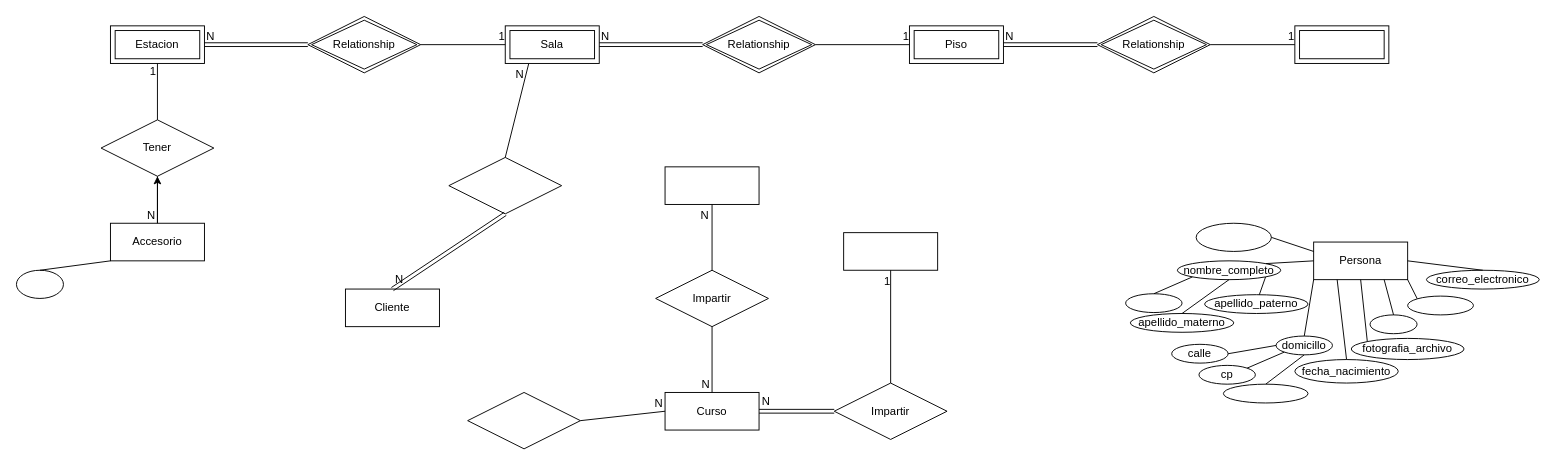
This 1556x465 diagram has some shape labels left out. Here are the shapes that lost their labels. From the top down, the centre of each, then its label:
[1341,44]: Edificio
[505,185]: Reservar
[711,185]: Agente
[890,251]: Entrenador
[1233,236]: id_persona
[39,283]: Tipo
[1153,303]: nombre
[1393,324]: CURP
[1440,305]: telefono
[1265,393]: num_exterior
[523,420]: Contratar
